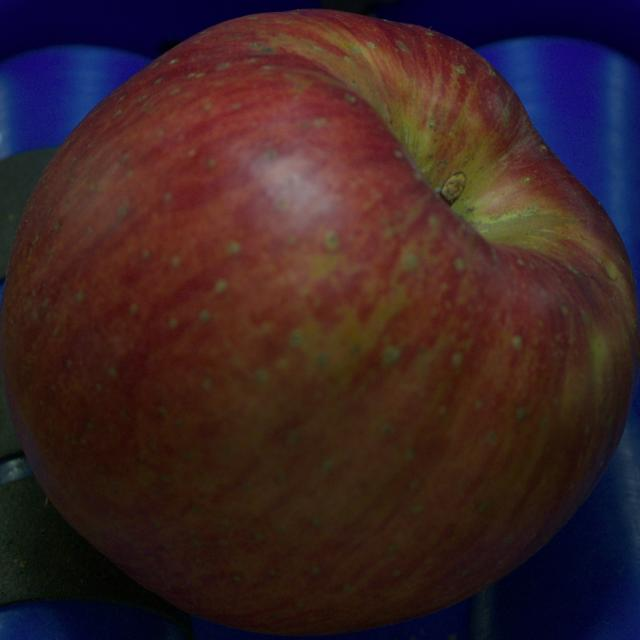apple: (0, 11, 639, 634)
pest: (602, 261, 618, 279), (539, 144, 549, 152)
